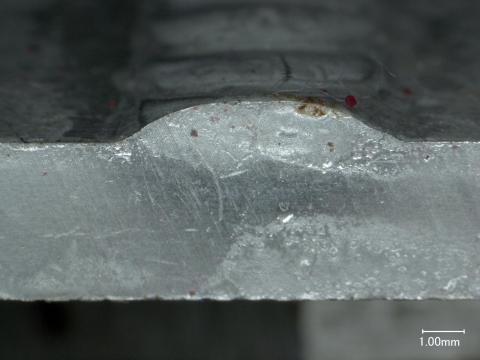test: (116, 101, 402, 142)
